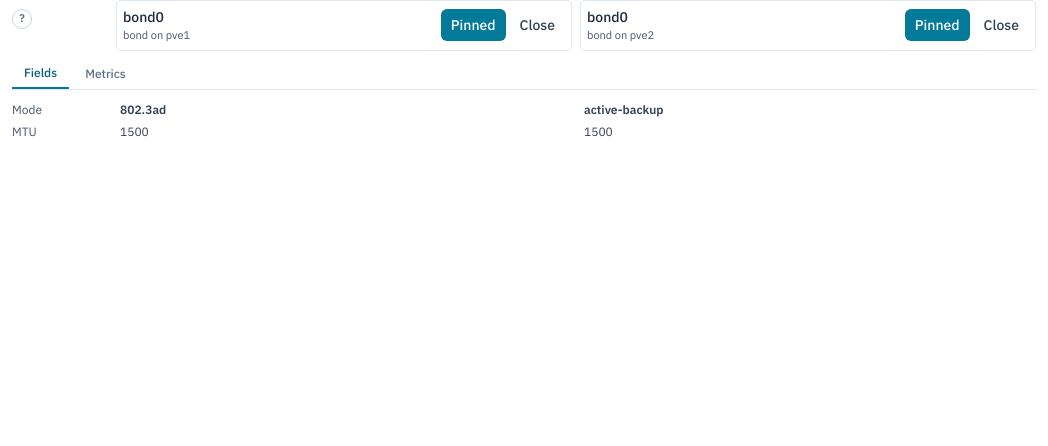
Test: InspectorCompareView — same-kind pair › renders each pane's own Metrics sparkline independently
Expected: the element with test id "inspector-compare" is shown, [12,0,1036,90]
Click the tab "Metrics": (105, 74) [73,58,138,88]
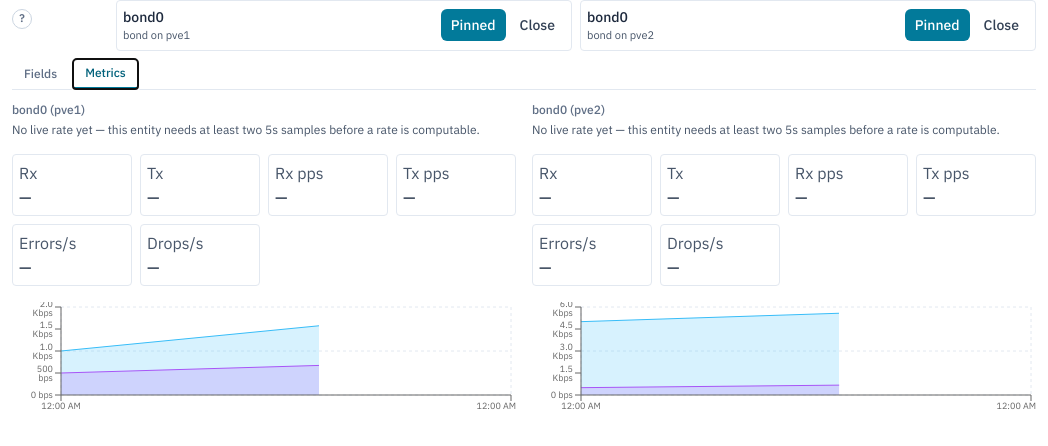
Result: the number of elements with test id "metrics-sparkline" is 2 at [12,302,516,430]; [532,302,1036,430]
